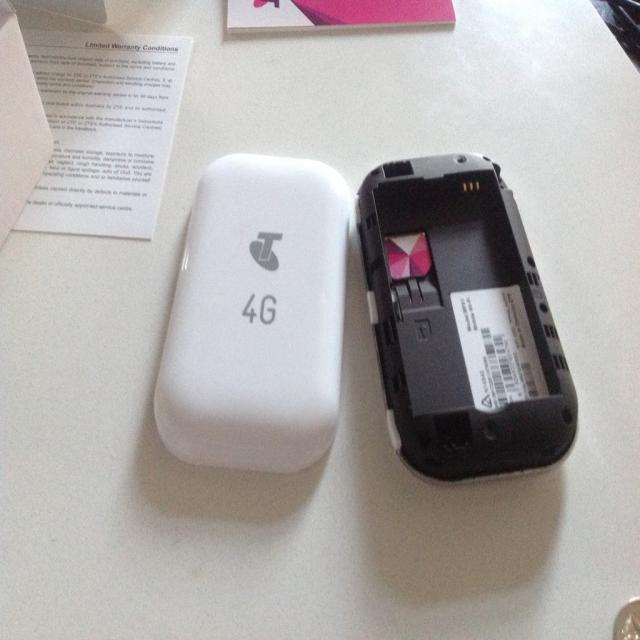Mobile-phone: (341, 146, 584, 479)
